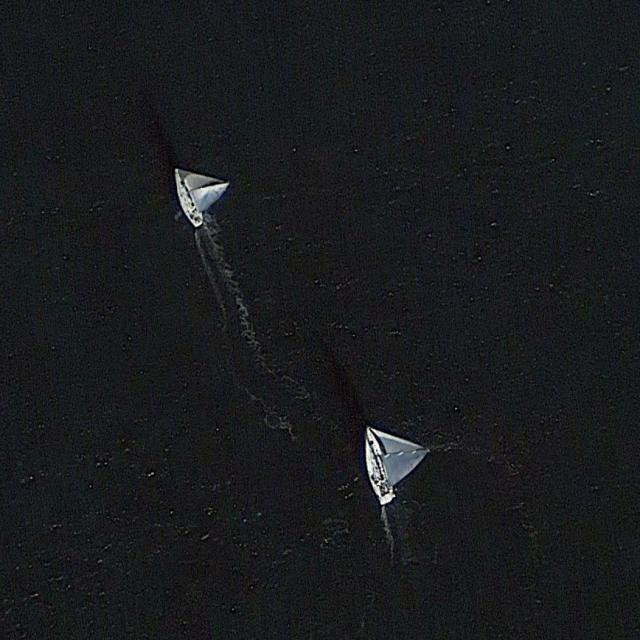ship: (360, 418, 432, 506), (170, 163, 232, 230)
